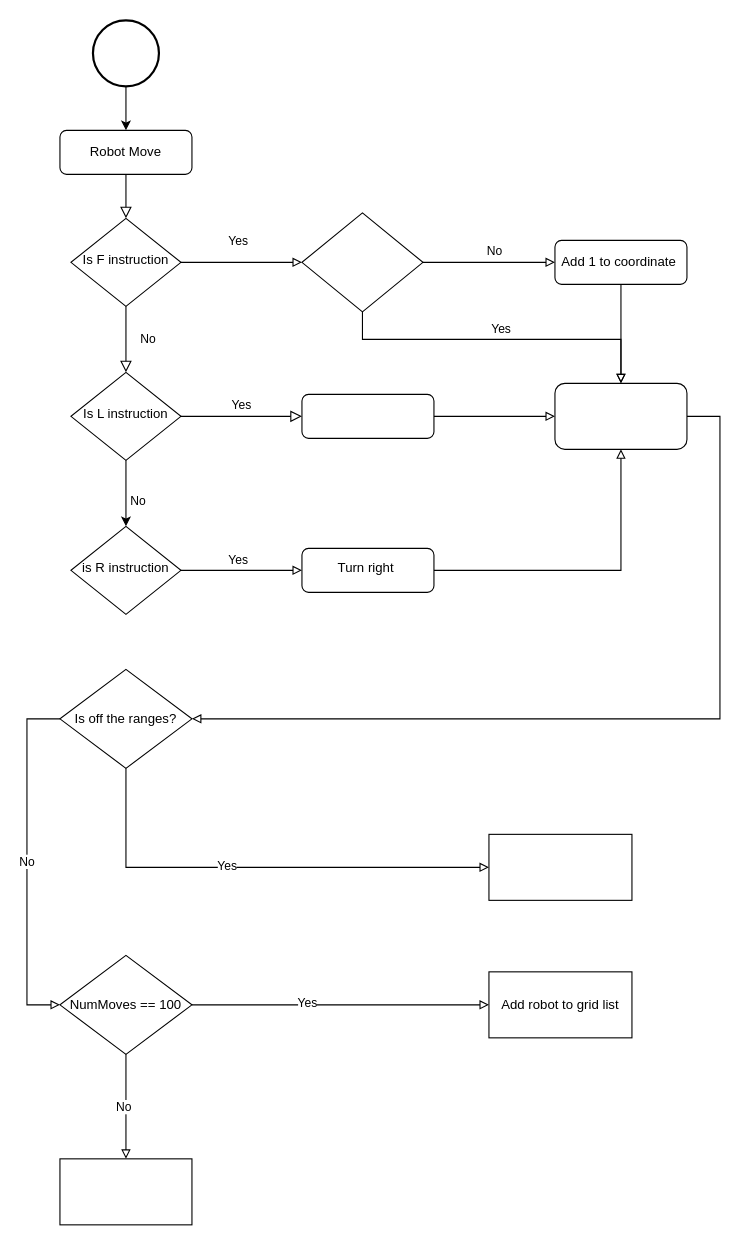
This 748x1244 diagram has some shape labels left out. The shapes that lost their labels are listed below. From the top down, each one's centre as x and y in pixels, then its label:
point (362, 262): Is a danger module?
point (367, 415): Turn left
point (620, 415): Robot Moves +1
point (560, 866): Update Danger field Add robot to grid list
point (125, 1191): Leave old module Update robot module
